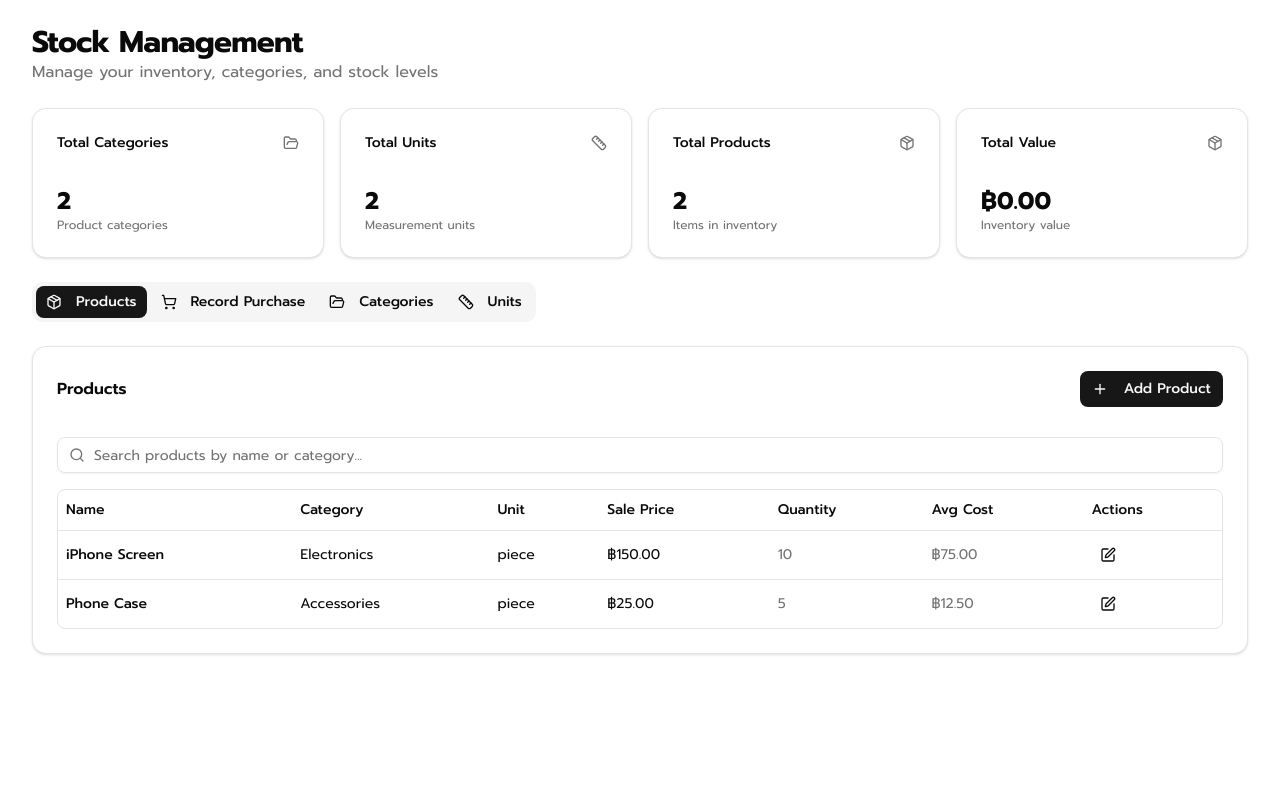
Test: StockPage - Purchase Recording › loads and displays purchase history when product is selected
The width and height of the screenshot is (1280, 800).
Click the button "Record Purchase" at (233, 302), box [150,286,315,318]
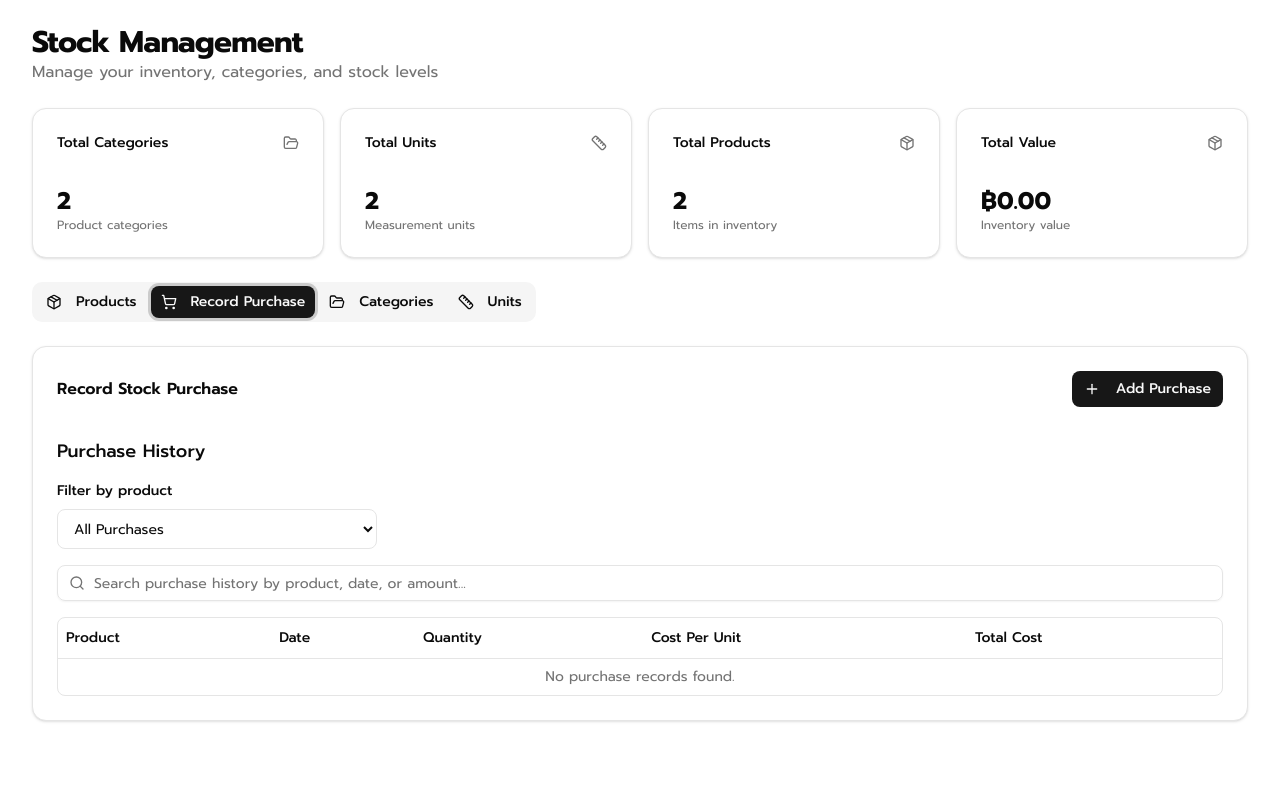
// Select product for history
Select "iPhone Screen (piece)" in the dropdown showing "All Purchases" at (217, 529), box [57,509,377,549]
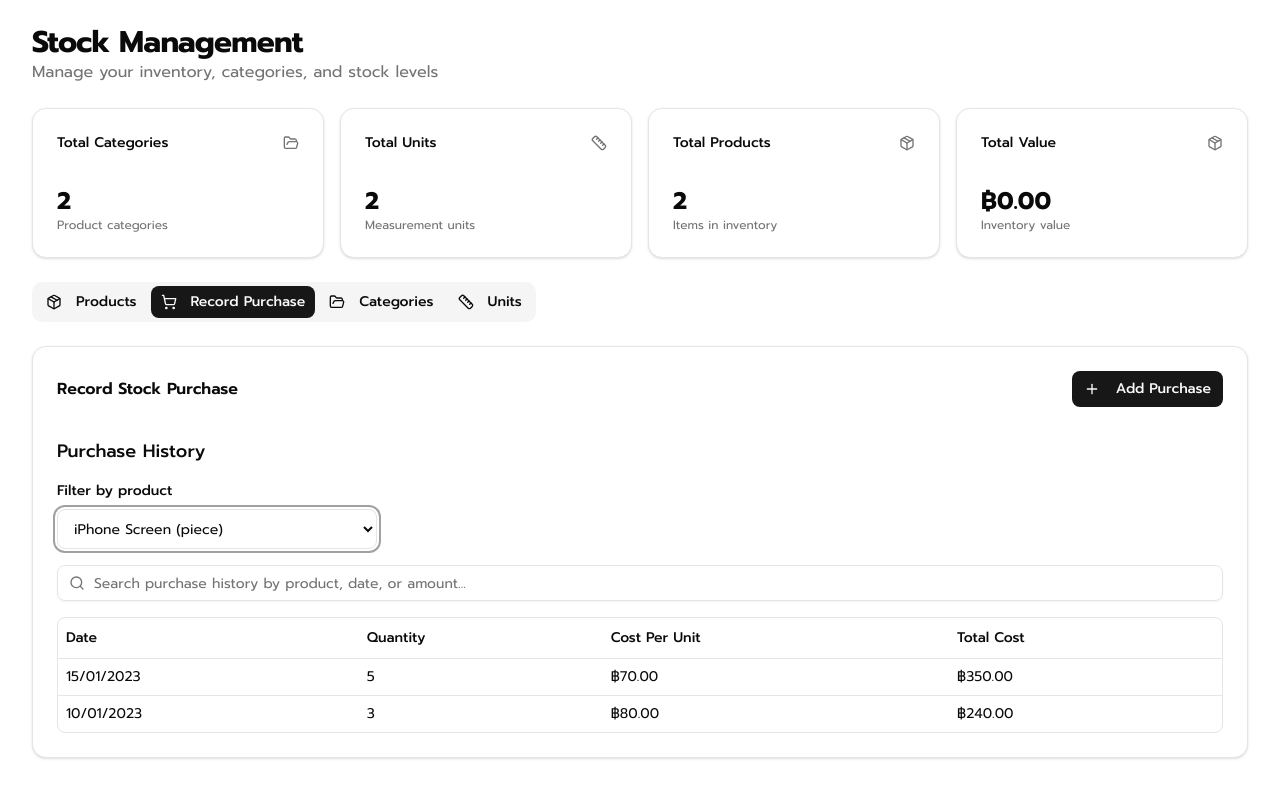
Result: the column heading "Date" is shown at [58,618,359,658]
Result: the column heading "Quantity" is shown at [359,618,603,658]
Result: the column heading "Cost Per Unit" is shown at [603,618,949,658]
